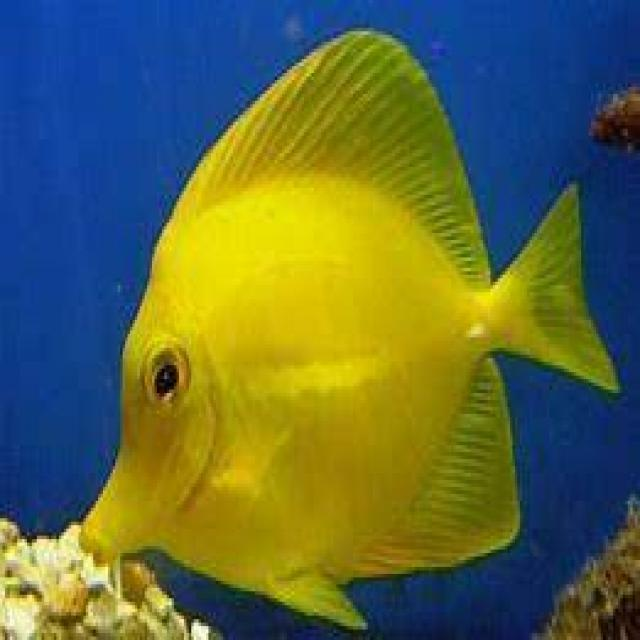YellowTang: (36, 23, 635, 640)
